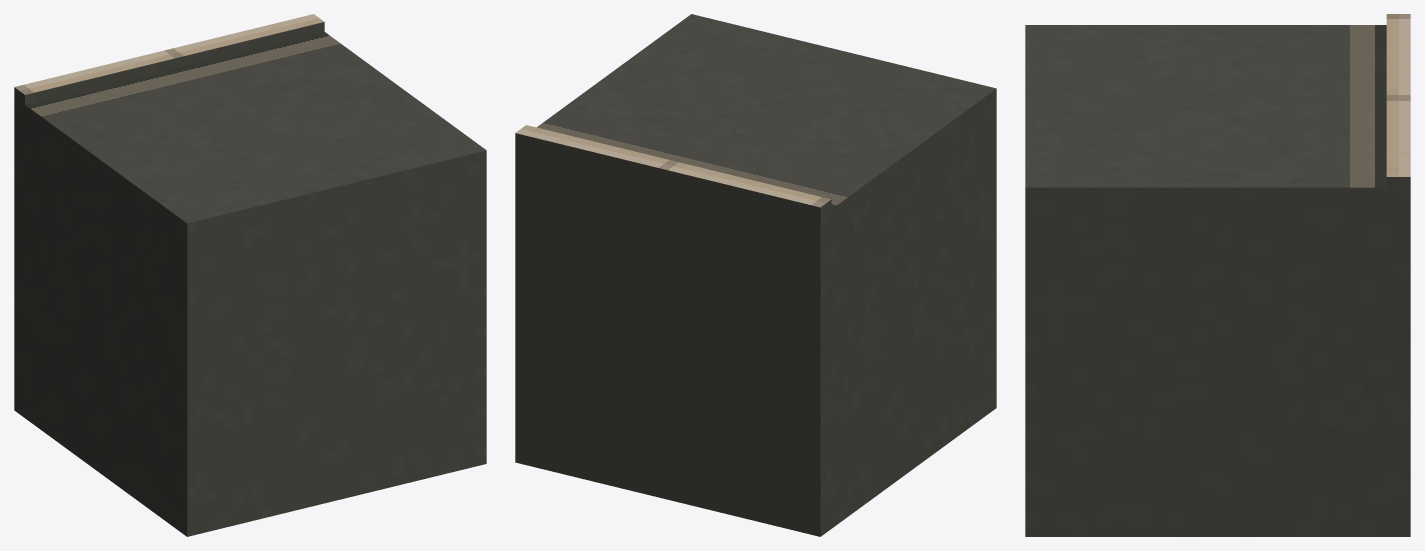
Rendered from road_asphalt_to_sidewalk_edge.gltf.
The picture shows the model from 3 angles, left to right: view 1: azimuth 30°, elevation 25°; view 2: azimuth 150°, elevation 25°; view 3: azimuth 270°, elevation 25°; orthographic projection. The views are drawn at different scales.
Visible parts, largest first — view 1: block_sides, transition_top; view 2: block_sides, transition_top; view 3: block_sides, transition_top.
Part boxes in pixels (x1,y1,x2,y2): block_sides: [14, 22, 486, 536]; transition_top: [14, 14, 486, 223]; block_sides: [515, 89, 996, 536]; transition_top: [516, 14, 996, 208]; block_sides: [1025, 177, 1410, 536]; transition_top: [1025, 14, 1410, 187].
Bounding box in the file's own units: 2 × 2.06 × 2.
2 materials, 2 textured.
